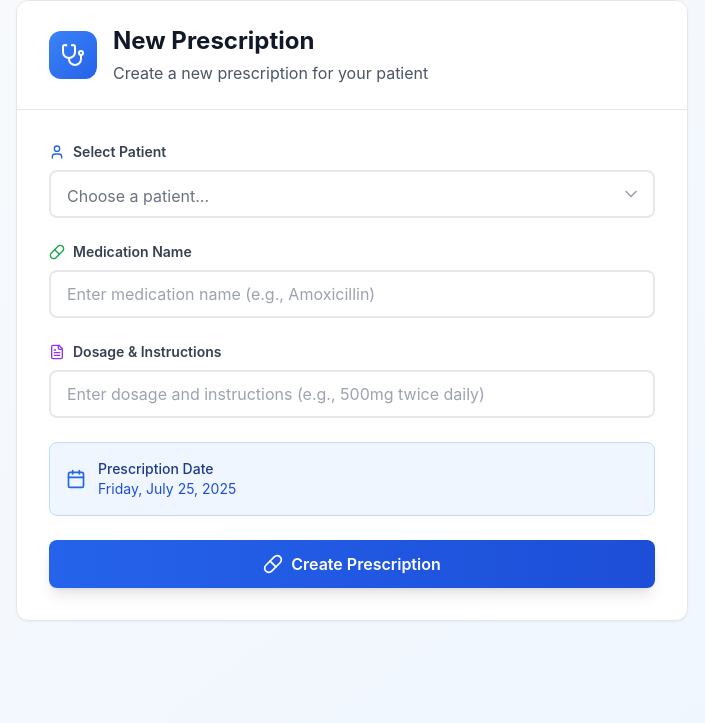
Scenario: NewPrescriptionForm Component › clears validation errors when fields are filled
The image size is (705, 723).
// First trigger validation errors
Click the button "Create Prescription" at {"x": 352, "y": 564}, box [49,540,655,588]
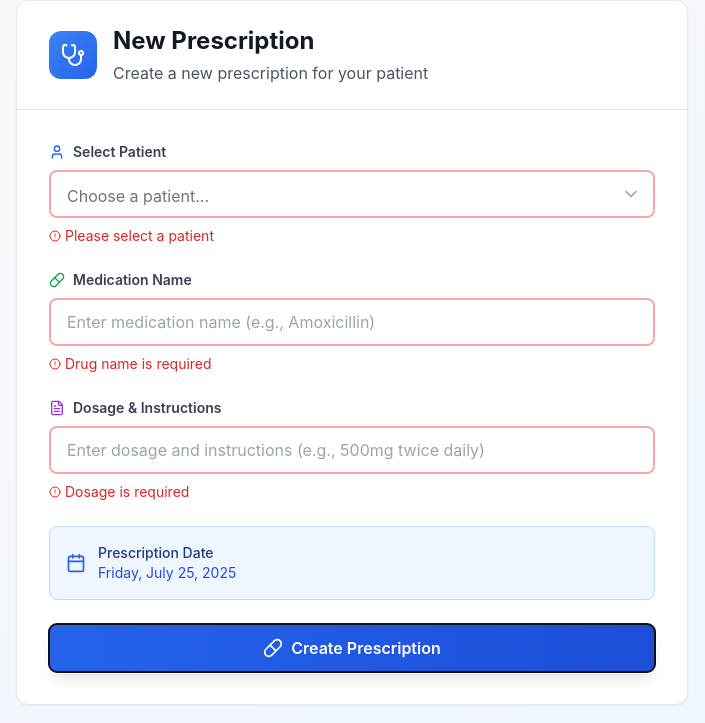
Now the text "Drug name is required" is shown, box [49,355,212,372]
// Then fill the field
Type "Aspirin" into the field with placeholder "Enter medication name (e.g., Amoxicillin)" at {"x": 352, "y": 322}, box [49,298,655,346]
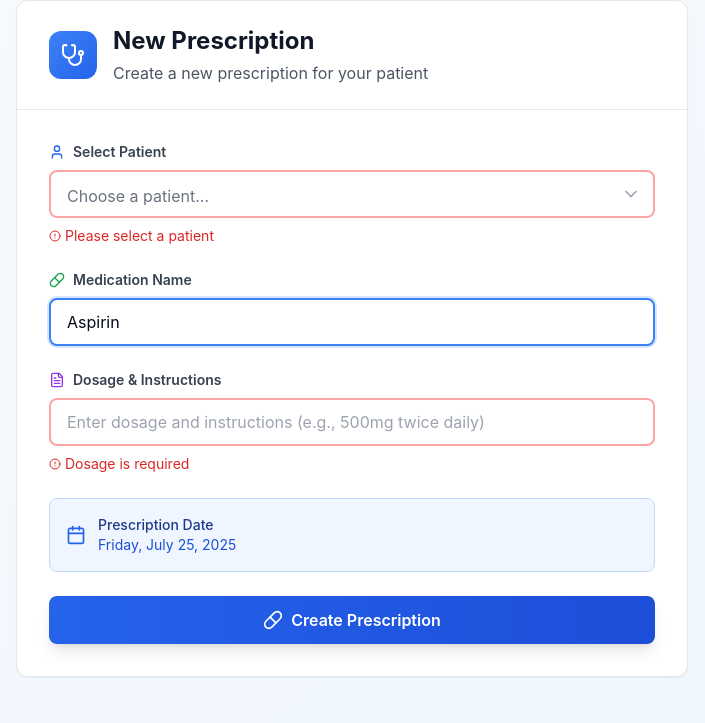
Now the text "Drug name is required" is gone
